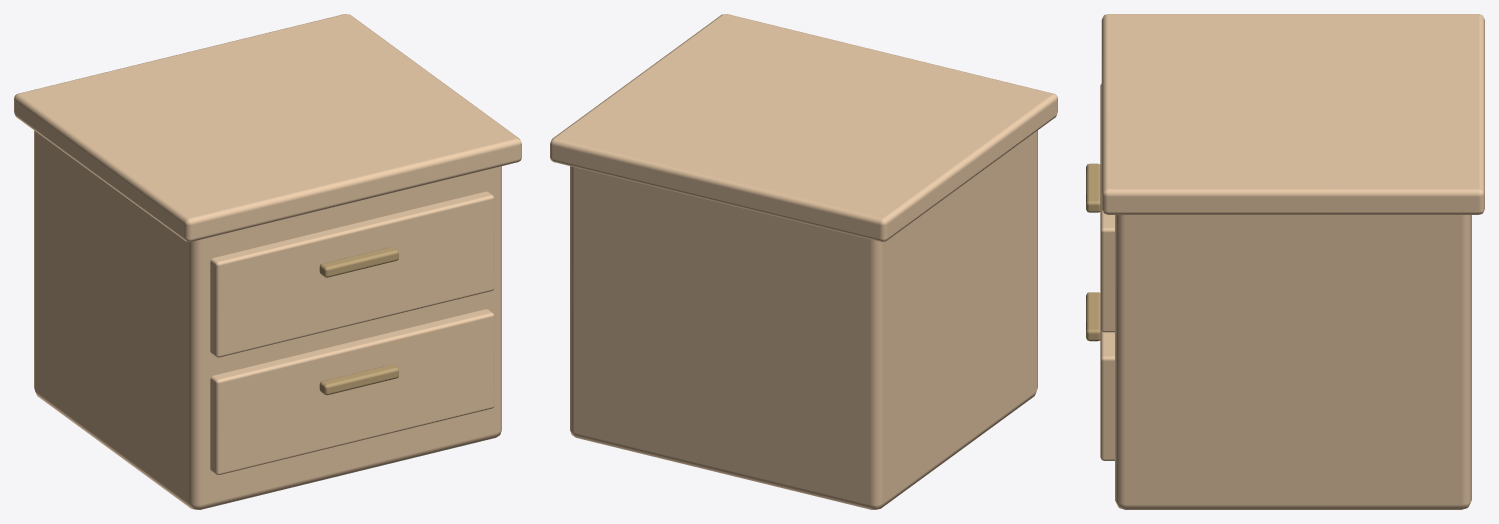
Rendered from bedroom_ref_nightstand.glb.
The picture shows the model from 3 angles, left to right: view 1: azimuth 30°, elevation 25°; view 2: azimuth 150°, elevation 25°; view 3: azimuth 270°, elevation 25°; orthographic projection. The views are drawn at different scales.
Bounding box in the file's own units: 0.81 × 0.6925 × 0.76.
